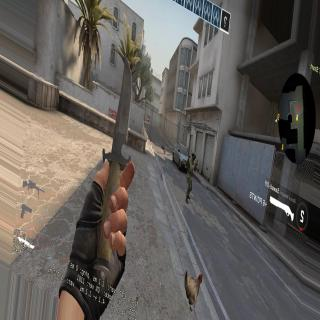CT-Body: (185, 149, 196, 202)
CT-Head: (193, 150, 196, 157)
